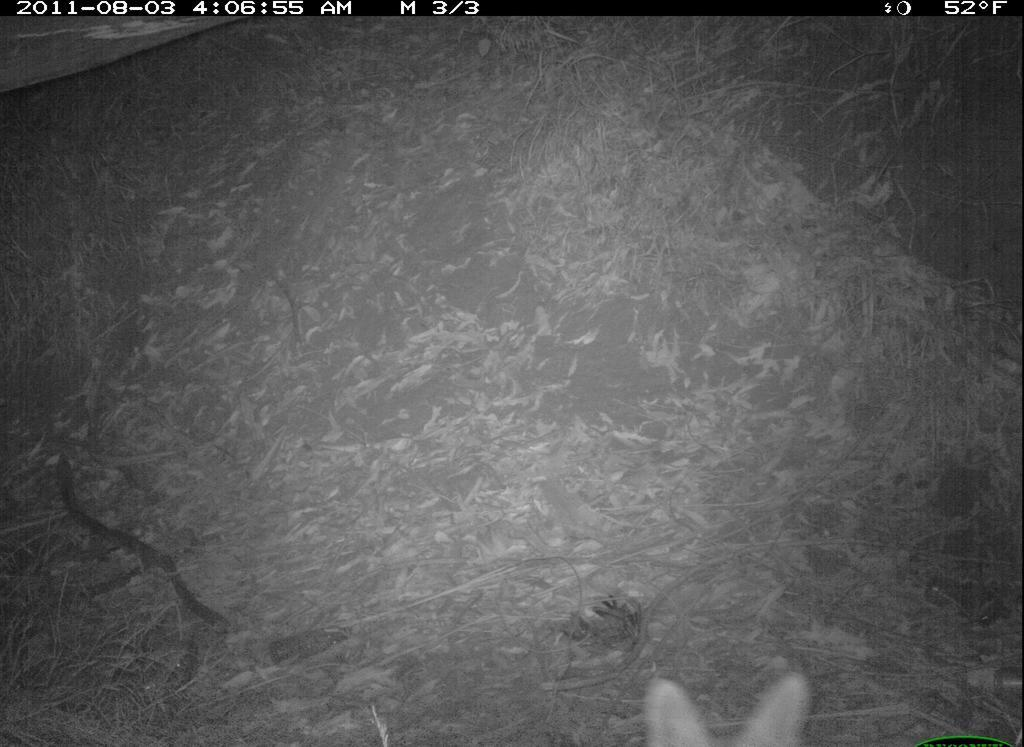coyote: (619, 669, 830, 747)
